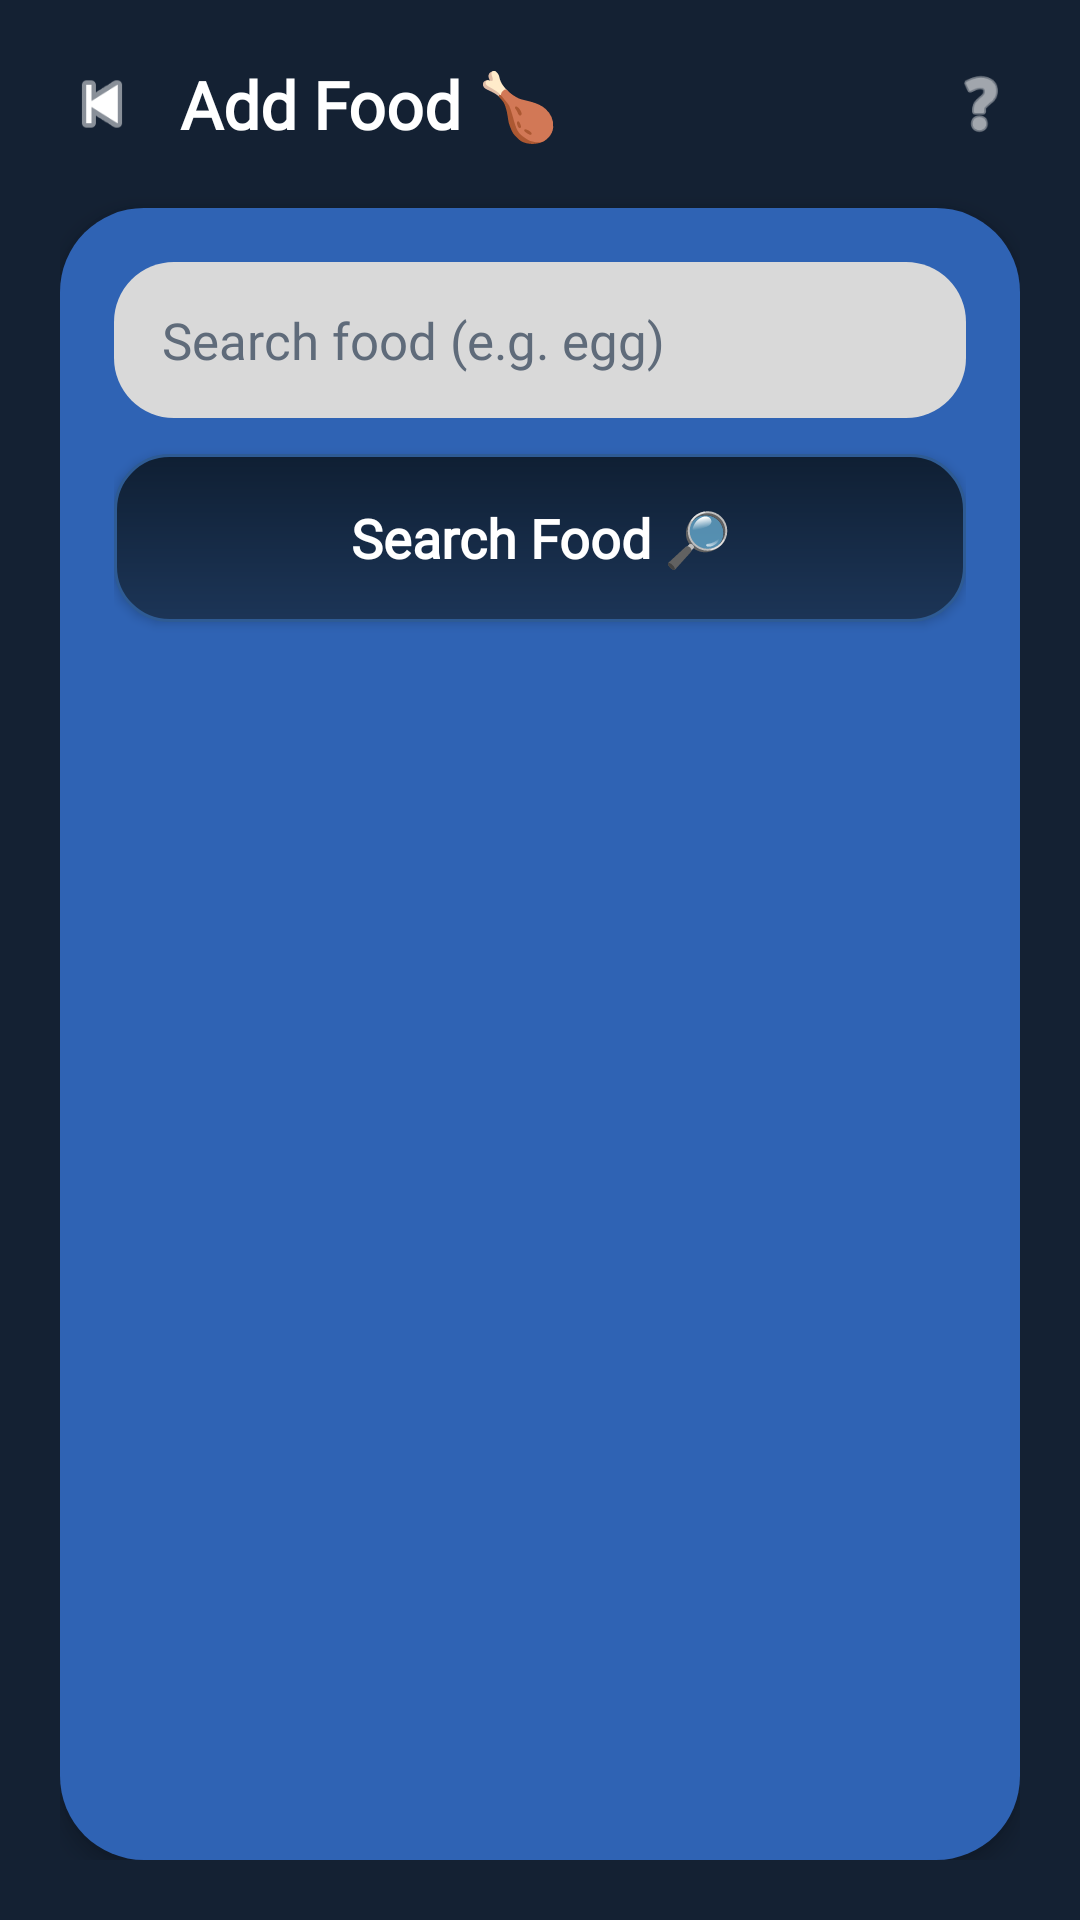

Screen size 1080*1920. Icon name, then its box in pixels as box(x1, y1, x2, y2):
Back Button: box(82, 80, 122, 128)
Help Button: box(964, 76, 998, 132)
